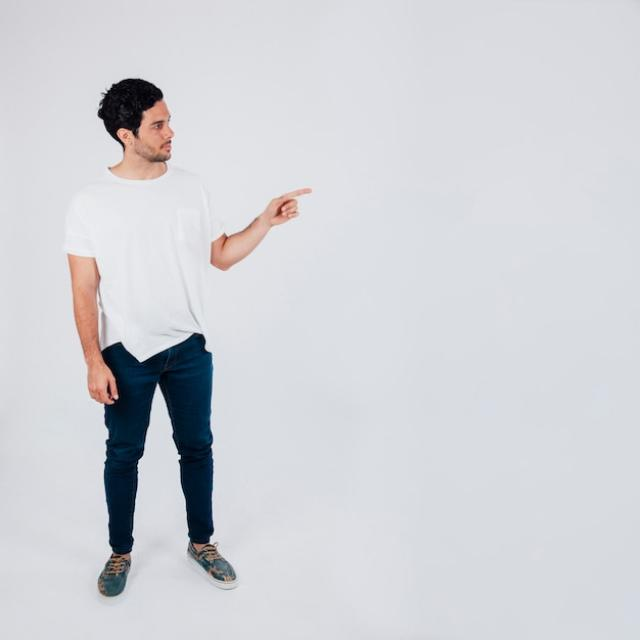Person: (64, 78, 310, 598)
